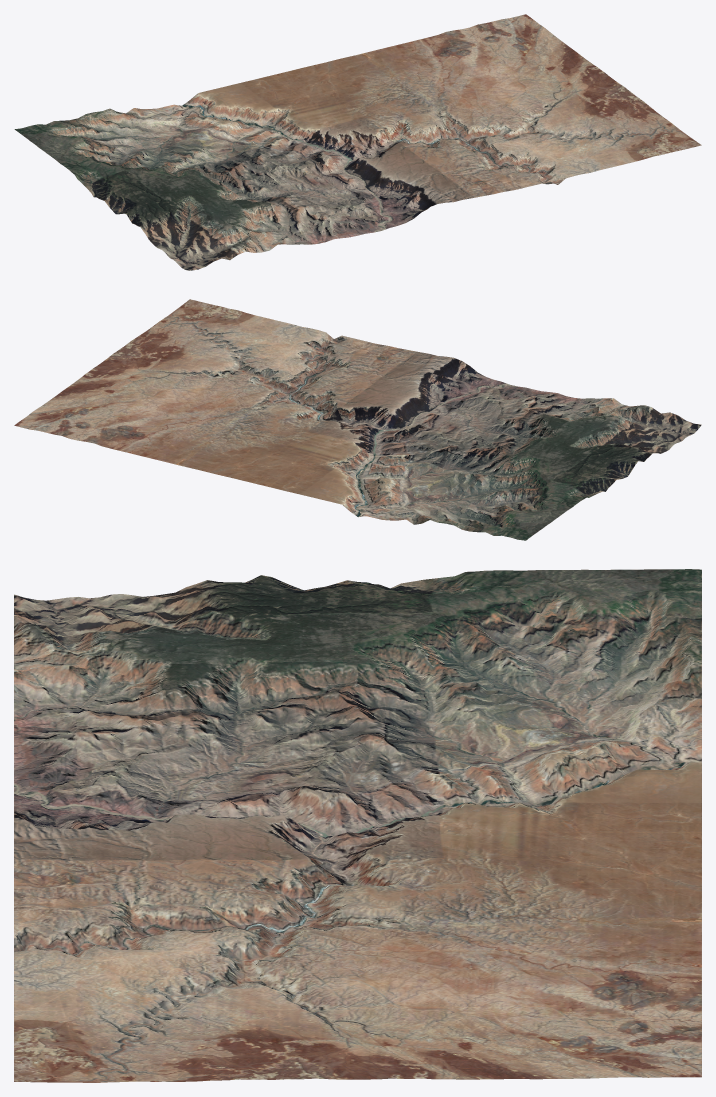
File: valleyLandscape.glb
3 renders of one model, top to bottom at view 1: azimuth 30°, elevation 25°; view 2: azimuth 150°, elevation 25°; view 3: azimuth 270°, elevation 25°, orthographic. The views are drawn at different scales.
Parts seen in each view (by area): view 1: Object_3; view 2: Object_3; view 3: Object_3.
Part boxes in pixels (x1,y1,x2,y2): Object_3: (14,14,701,270); Object_3: (14,299,701,540); Object_3: (14,569,701,1082).
Size of the model in its own units: 514 by 19.12 by 306.
1 material, 1 textured.
